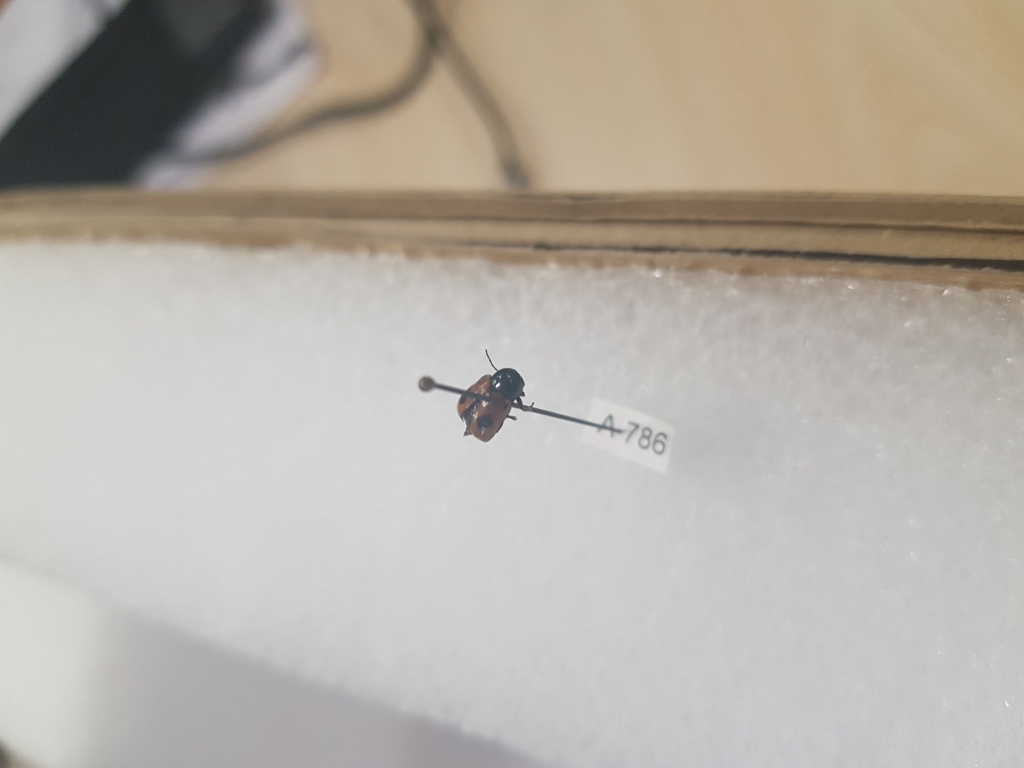Cryptocephalus_bipunctatus: (451, 341, 525, 453)
